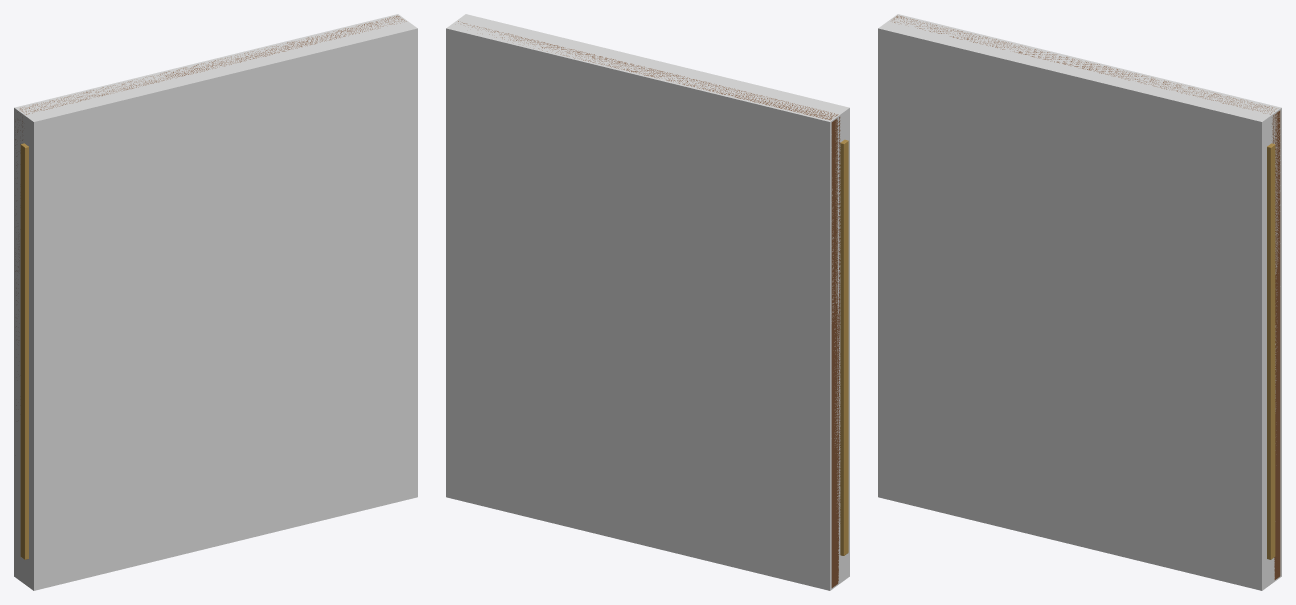
Rendered from window-treatment_boutique.glb.
3 renders of one model, left to right at view 1: azimuth 30°, elevation 25°; view 2: azimuth 150°, elevation 25°; view 3: azimuth 330°, elevation 25°, orthographic.
Parts seen in each view (by area): view 1: COL_window-treatment, MESH_FinishPanel_01, MESH_FinishBase; view 2: COL_window-treatment, MESH_FinishBase, MESH_FinishPanel_01; view 3: COL_window-treatment, MESH_FinishBase, MESH_FinishPanel_07.
Boxes of the visible parts, x1,y1,x2,y2 form: COL_window-treatment: [14, 14, 417, 590]; MESH_FinishPanel_01: [20, 143, 28, 559]; MESH_FinishBase: [15, 15, 406, 405]; COL_window-treatment: [446, 14, 849, 590]; MESH_FinishBase: [458, 21, 840, 587]; MESH_FinishPanel_01: [840, 139, 848, 555]; COL_window-treatment: [878, 14, 1281, 590]; MESH_FinishBase: [892, 15, 1280, 579]; MESH_FinishPanel_07: [1267, 143, 1275, 559].
Size of the model in its own units: 1.84 by 2.1 by 0.16.
